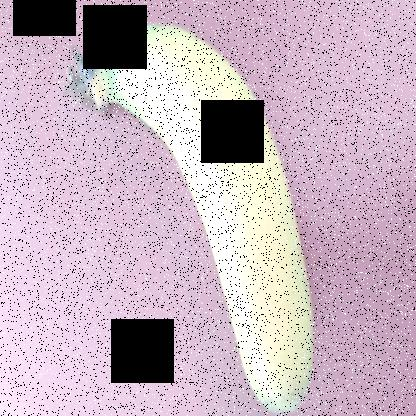freshripe: (72, 6, 336, 414)
